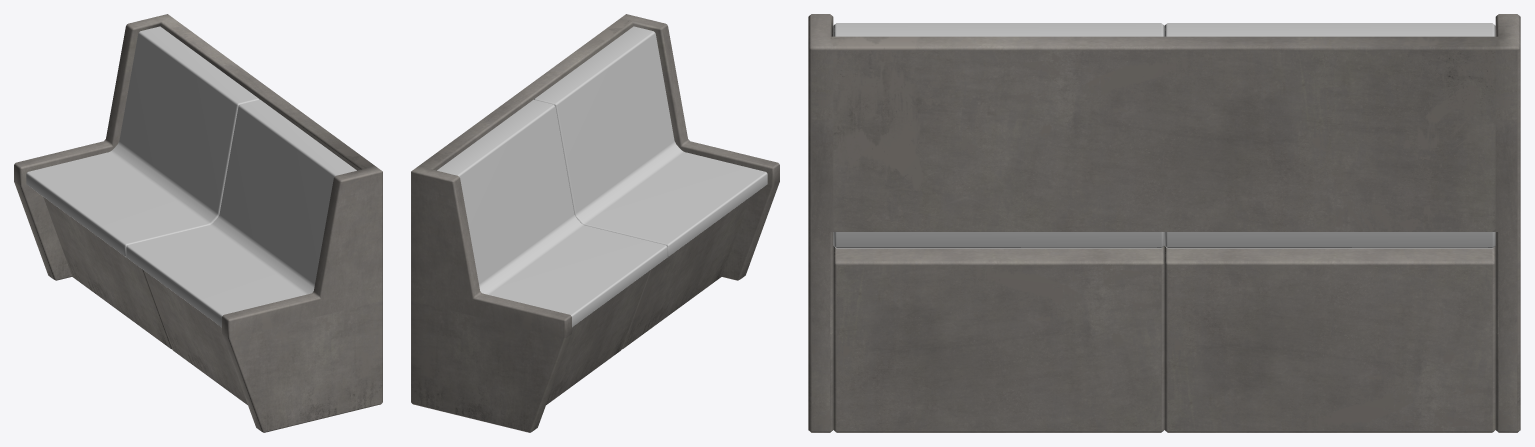
File: Brench_2.fbx
The picture shows the model from 3 angles, left to right: view 1: azimuth 30°, elevation 25°; view 2: azimuth 150°, elevation 25°; view 3: azimuth 270°, elevation 25°; orthographic projection. The views are drawn at different scales.
Visible parts, largest first — view 1: Cube.566, Cube.565; view 2: Cube.566, Cube.565; view 3: Cube.565, Cube.566.
Part boxes in pixels (x1,y1,x2,y2): Cube.566: (26, 26, 356, 327); Cube.565: (14, 14, 382, 432); Cube.566: (437, 26, 767, 327); Cube.565: (411, 14, 779, 432); Cube.565: (808, 14, 1520, 432); Cube.566: (833, 23, 1495, 248).
Size of the model in its own units: 89.61 by 129 by 215.
